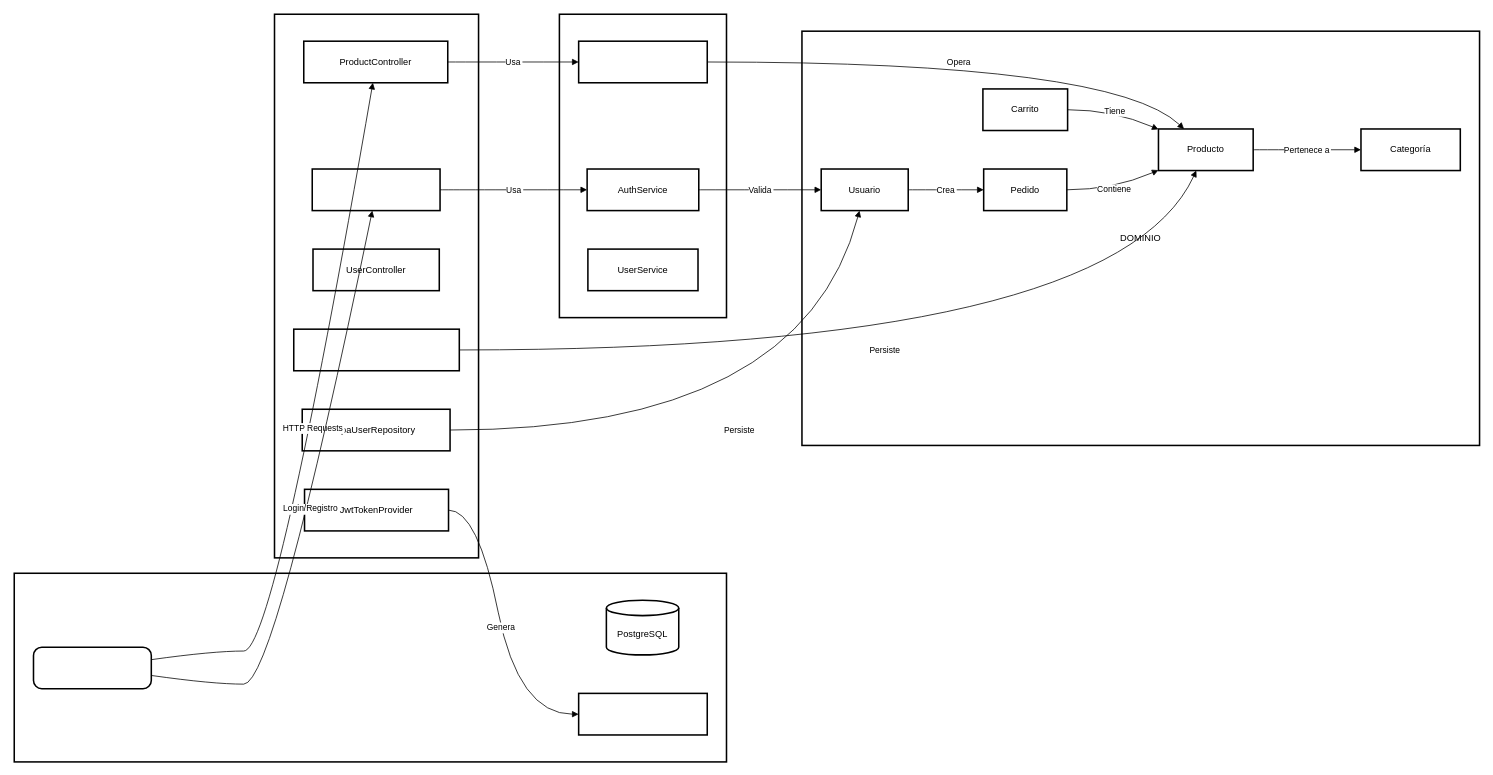
This 1493x775 diagram has some shape labels left out. Each missing label, with the box of its shape:
APLICACIÓN: (558, 13, 727, 318)
AuthController: (311, 168, 440, 211)
EXTERNO: (13, 572, 727, 762)
Frontend Angular: (32, 646, 152, 689)
JpaProductRepository: (293, 328, 460, 371)
ProductService: (578, 40, 708, 83)
Spring Security: (578, 692, 708, 735)
